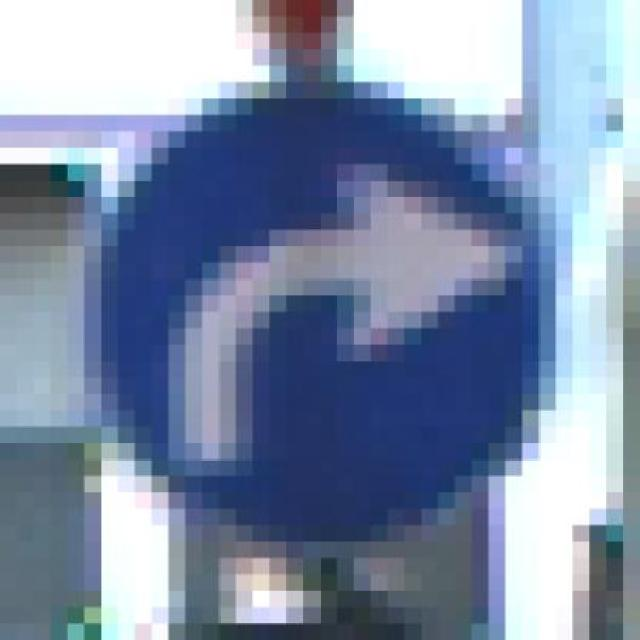Turn right ahead: (84, 65, 590, 558)
